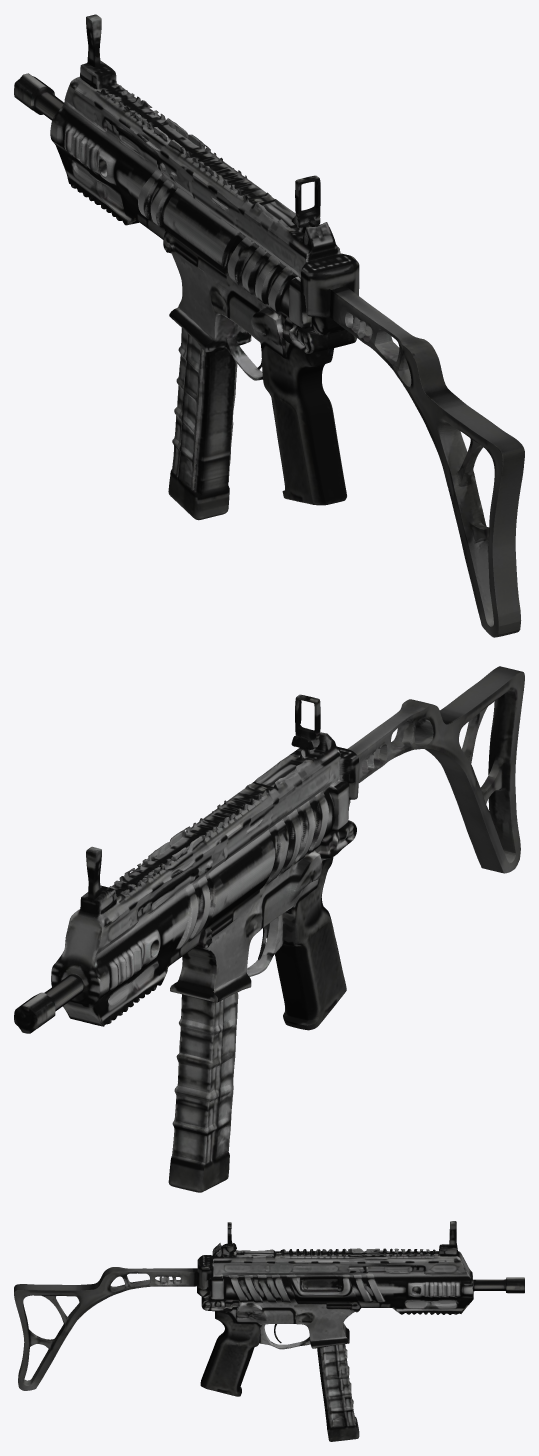
The model's file is SMC & CSMC.glb.
The picture shows the model from 3 angles, top to bottom: view 1: azimuth 30°, elevation 25°; view 2: azimuth 150°, elevation 25°; view 3: azimuth 270°, elevation 25°; orthographic projection. The views are drawn at different scales.
Visible parts, largest first — view 1: tripo_node_f542b2e6-45e7-4e5b-a2cd-7574b265c115; view 2: tripo_node_f542b2e6-45e7-4e5b-a2cd-7574b265c115; view 3: tripo_node_f542b2e6-45e7-4e5b-a2cd-7574b265c115.
Boxes of the visible parts, box(x1,y1,x2,y2) form: tripo_node_f542b2e6-45e7-4e5b-a2cd-7574b265c115: box(14, 14, 524, 637); tripo_node_f542b2e6-45e7-4e5b-a2cd-7574b265c115: box(14, 666, 524, 1192); tripo_node_f542b2e6-45e7-4e5b-a2cd-7574b265c115: box(14, 1221, 524, 1441).
Bounding box in the file's own units: 0.0623 × 0.4671 × 1.
Materials: 1 (1 with a texture image).
